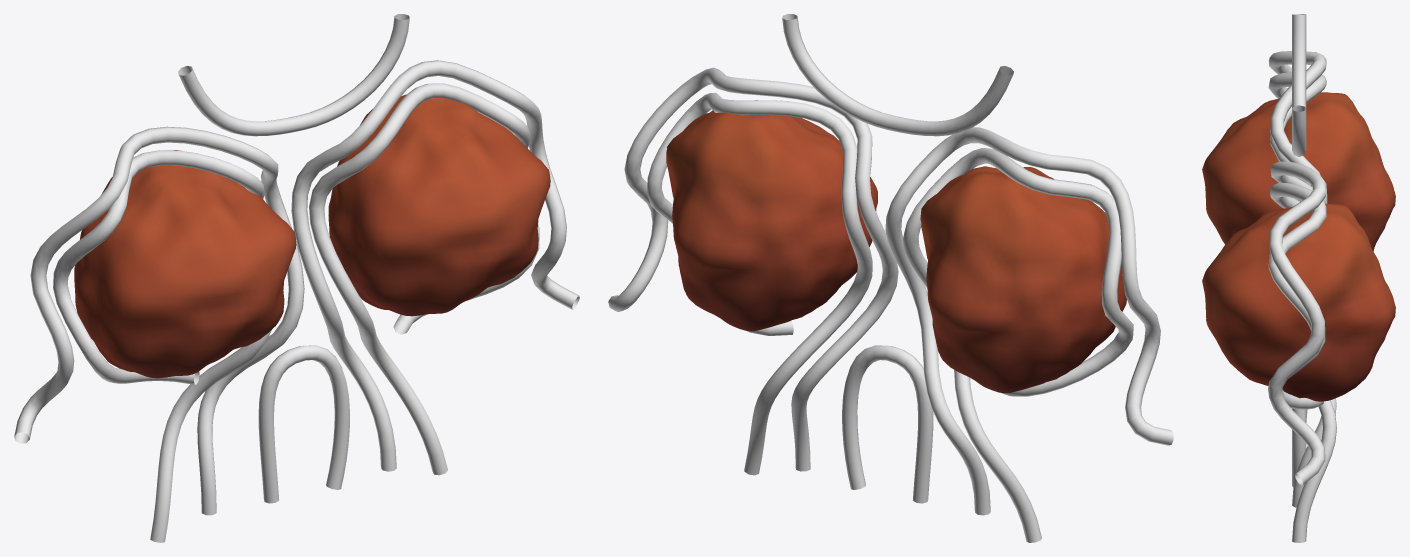
The model's file is Spaggeti_Monster.fbx.
3 views of the same model, side by side, from view 1: azimuth 30°, elevation 25°; view 2: azimuth 150°, elevation 25°; view 3: azimuth 270°, elevation 25° (orthographic). The views are drawn at different scales.
Visible parts, largest first — view 1: MeatBall_L, MeatBall_R, BézierCurve, BézierCurve.001, BézierCurve.003, BézierCurve.002; view 2: MeatBall_L, MeatBall_R, BézierCurve, BézierCurve.001, BézierCurve.003, BézierCurve.002; view 3: MeatBall_R, MeatBall_L, BézierCurve, BézierCurve.001, BézierCurve.002, BézierCurve.003.
Boxes of the visible parts, <box> form: MeatBall_L: <box>74,150,296,378</box>; MeatBall_R: <box>328,94,550,316</box>; BézierCurve: <box>14,60,579,515</box>; BézierCurve.001: <box>53,83,539,542</box>; BézierCurve.003: <box>258,345,349,503</box>; BézierCurve.002: <box>178,14,409,136</box>; MeatBall_L: <box>920,166,1126,393</box>; MeatBall_R: <box>666,110,877,331</box>; BézierCurve: <box>608,67,1173,515</box>; BézierCurve.001: <box>647,93,1133,542</box>; BézierCurve.003: <box>842,345,933,503</box>; BézierCurve.002: <box>782,14,1013,136</box>; MeatBall_R: <box>1202,203,1395,401</box>; MeatBall_L: <box>1202,92,1395,251</box>; BézierCurve: <box>1268,51,1336,507</box>; BézierCurve.001: <box>1268,72,1336,542</box>; BézierCurve.002: <box>1292,14,1306,156</box>; BézierCurve.003: <box>1292,408,1306,486</box>.
Size of the model in its own units: 409 by 323 by 135.
